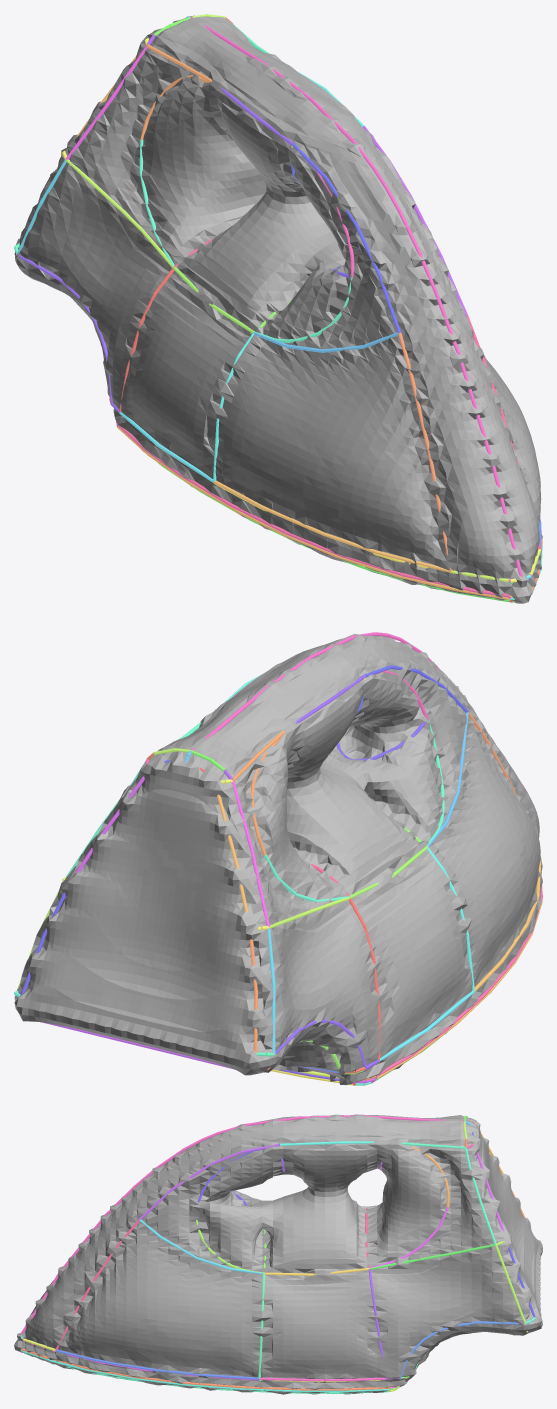
File: onshape_iron.gltf
3 renders of one model, top to bottom at view 1: azimuth 30°, elevation 25°; view 2: azimuth 150°, elevation 25°; view 3: azimuth 270°, elevation 25°, orthographic. The views are drawn at different scales.
Size of the model in its own units: 0.3417 by 0.438 by 0.8603.
